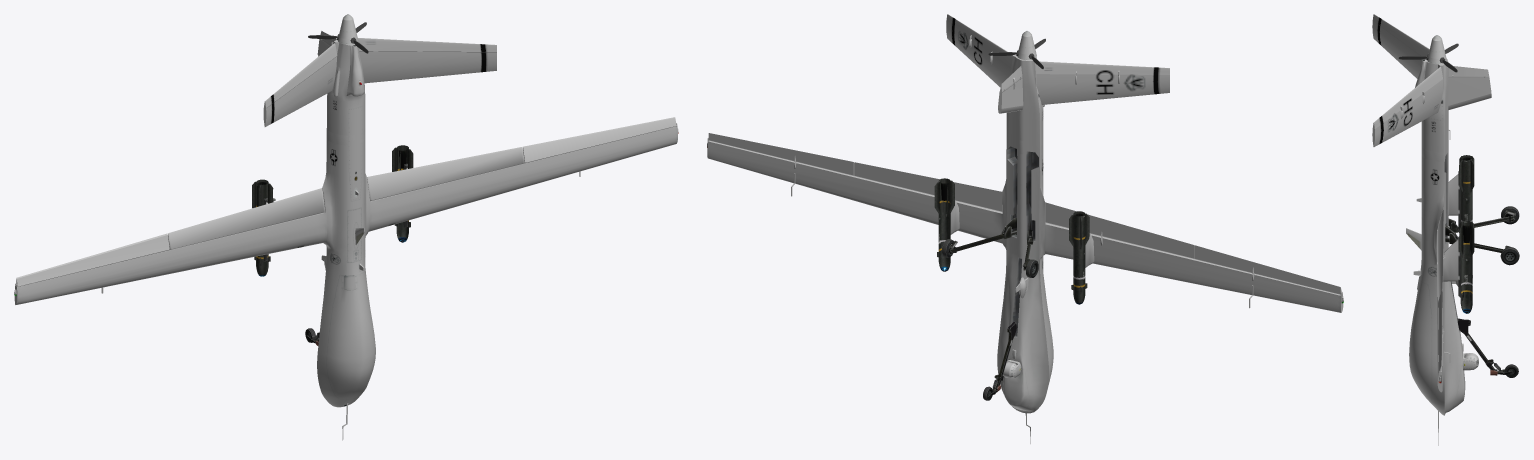
3 renders of one model, left to right at view 1: azimuth 30°, elevation 25°; view 2: azimuth 150°, elevation 25°; view 3: azimuth 270°, elevation 25°, orthographic. The views are drawn at different scales.
Visible parts, largest first — view 1: fuselage, elevator, aileron_r, aileron_L, rear_control02_pivot, rear_control01_pivot, missile_R_pivot, missile_L_pivot, propeller; view 2: fuselage, elevator, aileron_r, aileron_L, missile_R_pivot, rear_control01_pivot, missile_L_pivot, rear_control02_pivot, rudder, propeller; view 3: fuselage, missile_L_pivot, rudder, missile_R_pivot, rear_control02_pivot, front_gear, propeller, rear_control01_pivot, elevator, rudder_control_pivot, lg_R01_pivot, aileron_L (+3 smaller).
Boxes of the visible parts, x1,y1,x2,y2 form: fuselage: [14, 39, 678, 440]; elevator: [168, 147, 524, 249]; aileron_r: [16, 233, 169, 286]; aileron_L: [523, 117, 676, 163]; rear_control02_pivot: [358, 38, 496, 51]; rear_control01_pivot: [264, 43, 337, 108]; missile_R_pivot: [252, 179, 273, 276]; missile_L_pivot: [392, 145, 413, 242]; propeller: [308, 14, 368, 53]; fuselage: [707, 21, 1343, 443]; elevator: [854, 162, 1194, 258]; aileron_r: [1194, 245, 1341, 294]; aileron_L: [708, 133, 854, 175]; missile_R_pivot: [1069, 211, 1089, 304]; rear_control01_pivot: [1036, 61, 1169, 76]; missile_L_pivot: [934, 178, 954, 271]; rear_control02_pivot: [946, 14, 1013, 67]; rudder: [998, 77, 1023, 113]; propeller: [988, 31, 1045, 68]; fuselage: [1372, 21, 1478, 445]; missile_L_pivot: [1459, 220, 1474, 313]; rudder: [1448, 75, 1491, 109]; missile_R_pivot: [1459, 155, 1474, 221]; rear_control02_pivot: [1372, 67, 1442, 129]; front_gear: [1457, 318, 1518, 377]; propeller: [1398, 35, 1458, 72]; rear_control01_pivot: [1372, 14, 1429, 58]; elevator: [1437, 209, 1444, 301]; rudder_control_pivot: [1448, 66, 1489, 77]; lg_R01_pivot: [1448, 210, 1515, 232]; aileron_L: [1438, 289, 1443, 372].
Size of the model in its own units: 0.3792 by 0.2357 by 0.0761.
Materials: 4 (3 with a texture image).
